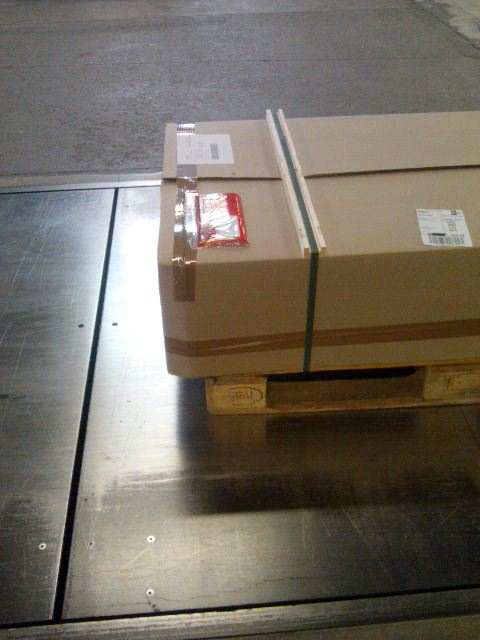label: (414, 209, 475, 251), (175, 134, 233, 165)
package: (162, 108, 480, 376)
